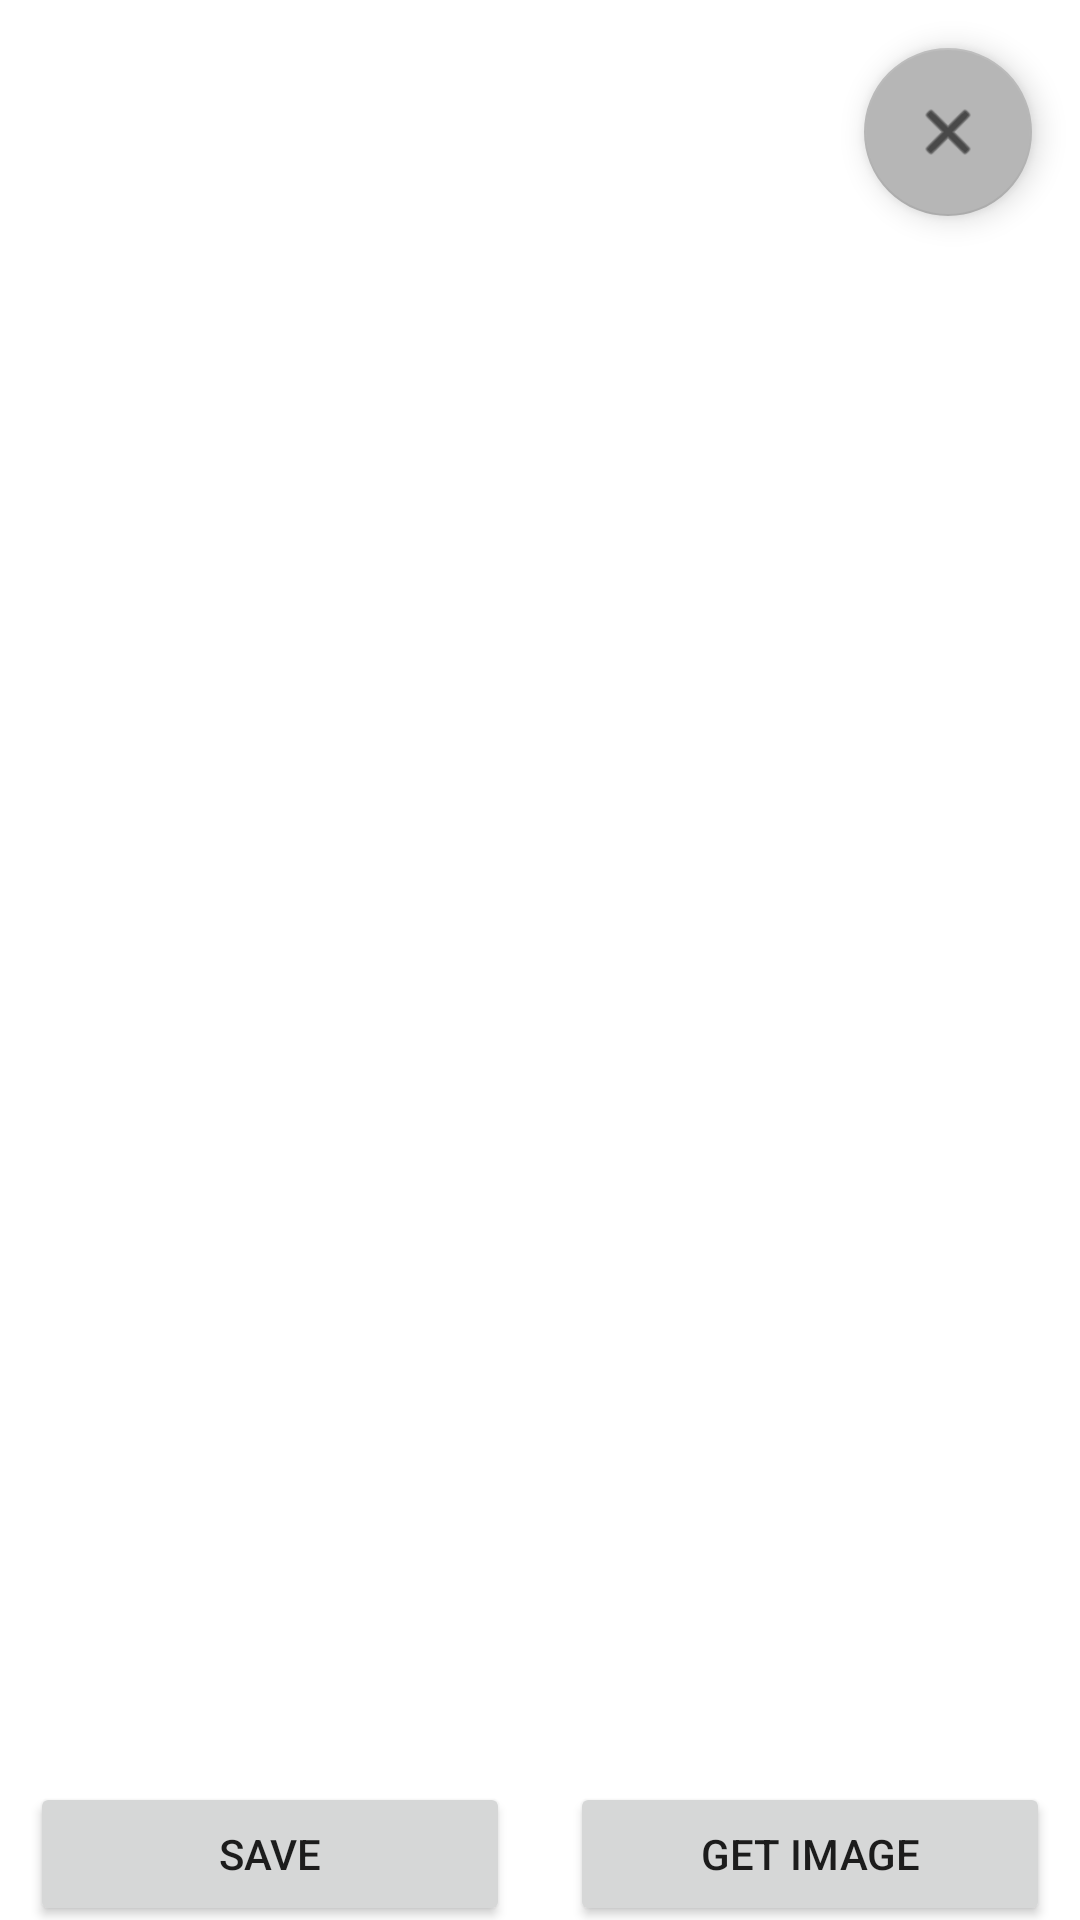

Screen size 1080w x 1920h. Icon name, then its center in pixels as (x,y):
close clear cancel: (948,132)
